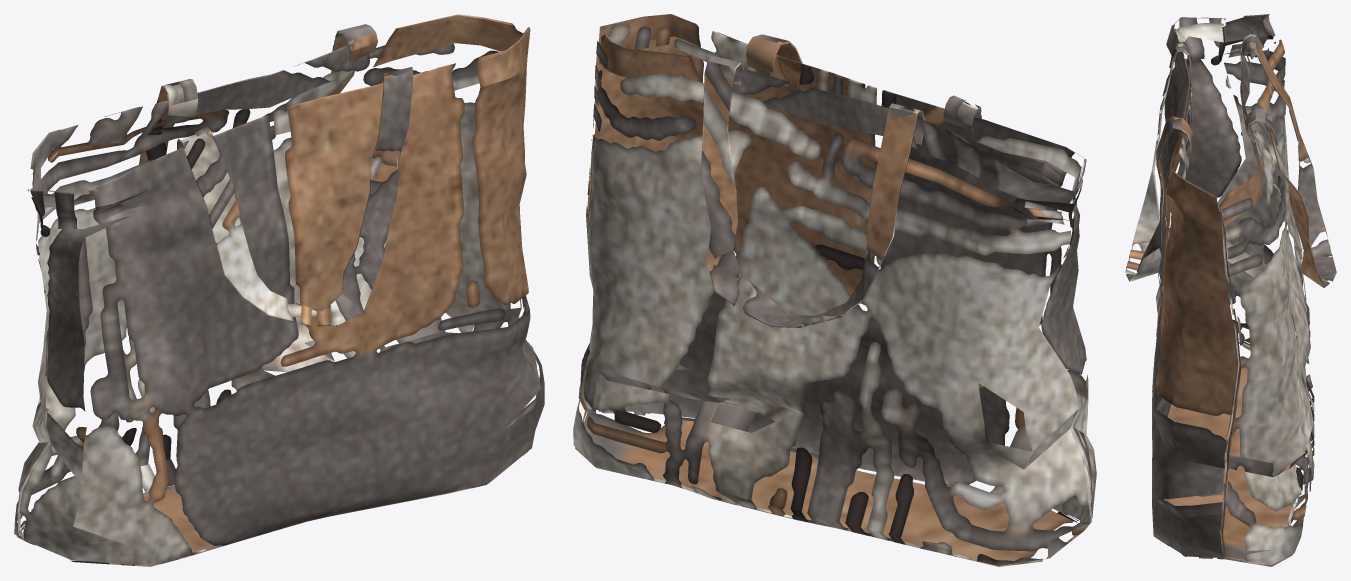
File: raw_model.obj
The picture shows the model from 3 angles, left to right: view 1: azimuth 30°, elevation 25°; view 2: azimuth 150°, elevation 25°; view 3: azimuth 270°, elevation 25°; orthographic projection. The views are drawn at different scales.
Parts seen in each view (by area): view 1: solid_001; view 2: solid_001; view 3: solid_001.
Part boxes in pixels (x1,y1,x2,y2): solid_001: (14, 14, 544, 566); solid_001: (573, 14, 1096, 566); solid_001: (1125, 14, 1336, 566).
Size of the model in its own units: 0.4857 by 0.384 by 0.1871.
